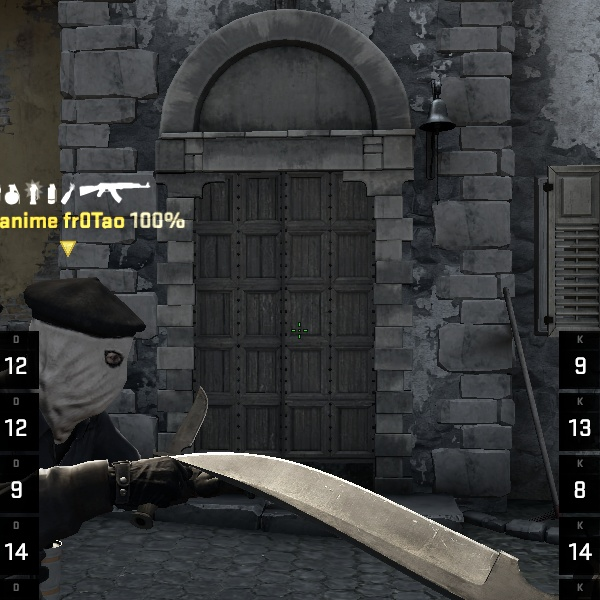ct_body: (0, 268, 182, 590)
ct_head: (5, 267, 151, 415)
t_body: (0, 269, 189, 592)
